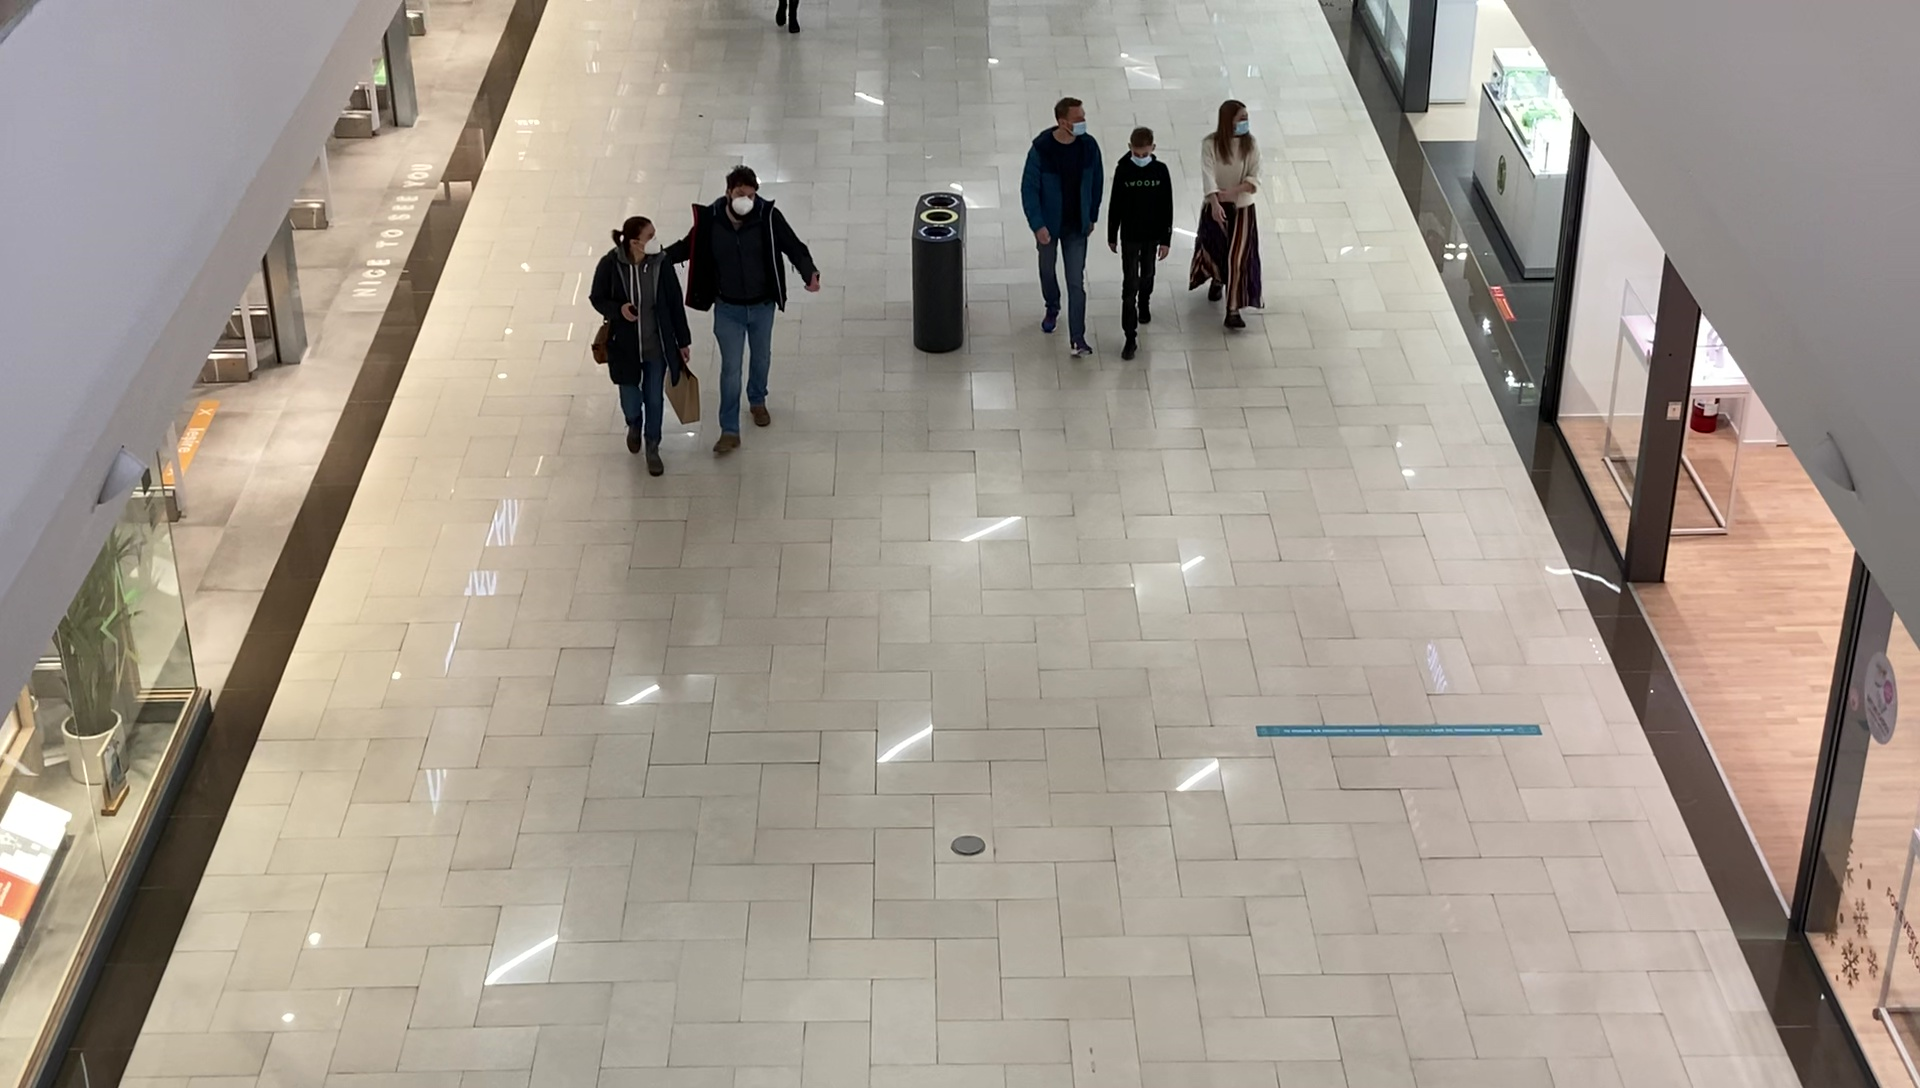person: (686, 168, 822, 456), (589, 216, 694, 477), (1021, 98, 1105, 358), (1187, 100, 1266, 329), (1108, 127, 1175, 363)
